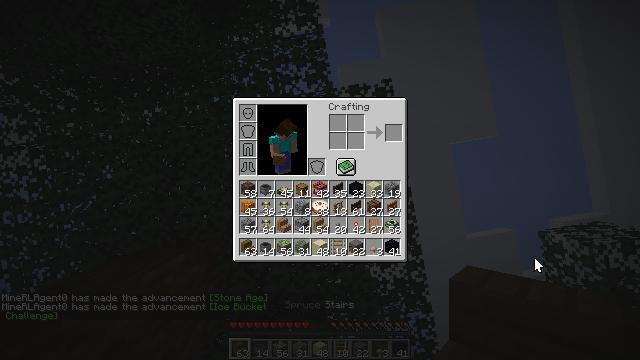cursor: (534, 257, 544, 273)
